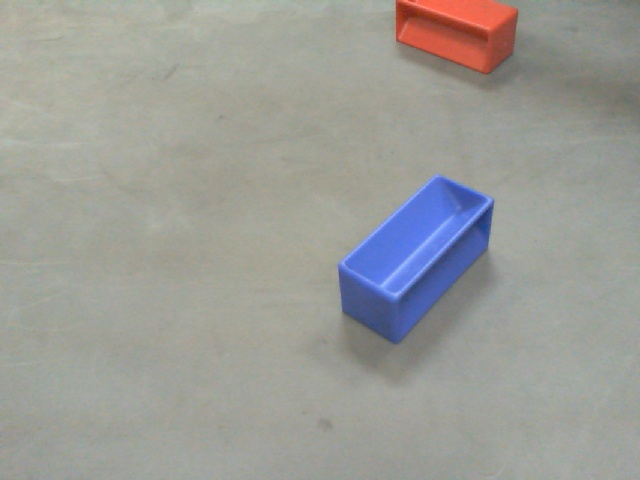BlueSample: (336, 173, 496, 343)
RedSample: (391, 1, 518, 75)
